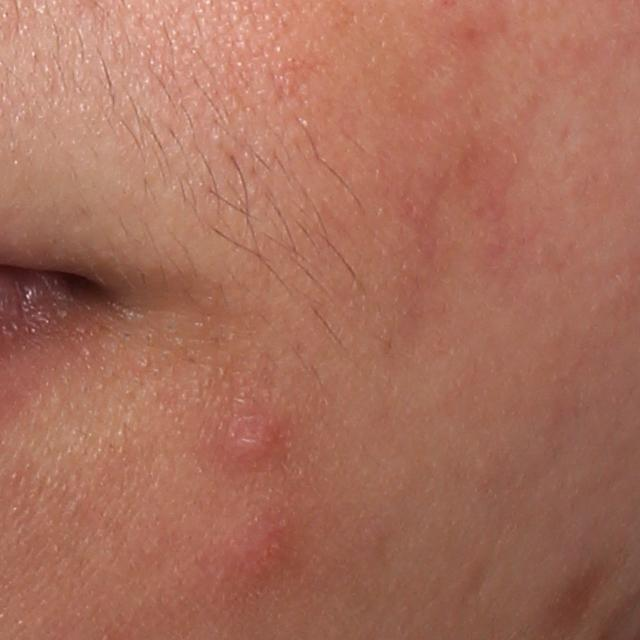papule: (193, 504, 306, 599), (209, 399, 296, 472)
